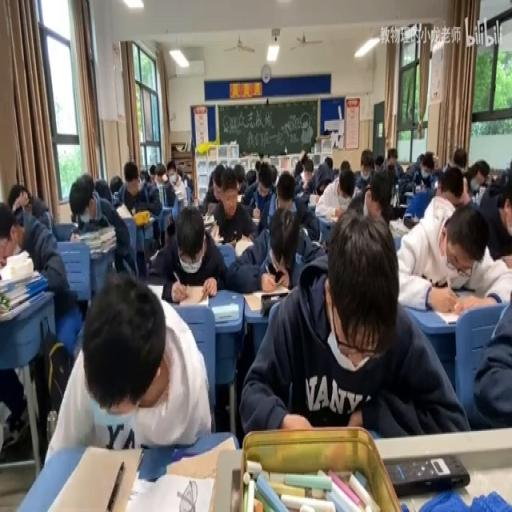calculator: (40, 443, 144, 512), (124, 471, 214, 512), (164, 434, 234, 479), (429, 296, 493, 324), (240, 288, 286, 312), (172, 287, 210, 306), (234, 234, 256, 258), (212, 302, 238, 322), (453, 283, 480, 297), (206, 222, 222, 243), (390, 218, 410, 234), (115, 202, 133, 218), (132, 209, 150, 225), (323, 209, 342, 221), (280, 155, 290, 171), (202, 213, 214, 225), (157, 184, 163, 206), (149, 247, 158, 259), (398, 202, 408, 212), (308, 199, 318, 208), (251, 209, 260, 219), (404, 191, 414, 199), (237, 193, 243, 202)
paper: (242, 208, 462, 438), (48, 268, 210, 462), (0, 189, 70, 449), (154, 202, 228, 301), (68, 172, 134, 282), (468, 280, 512, 428), (208, 168, 258, 247), (478, 166, 512, 260), (134, 162, 166, 252), (286, 170, 323, 242), (360, 166, 403, 224), (398, 148, 434, 202), (51, 286, 83, 340), (433, 165, 470, 209), (0, 200, 22, 268), (164, 158, 187, 205), (464, 158, 489, 195), (30, 194, 52, 228), (93, 176, 112, 206), (385, 146, 401, 176), (338, 170, 354, 200), (123, 160, 139, 184), (232, 162, 246, 189), (450, 148, 466, 171), (360, 151, 374, 175), (108, 176, 122, 198), (487, 181, 506, 196), (154, 165, 166, 186), (316, 179, 330, 196), (244, 168, 256, 186), (301, 168, 313, 186), (390, 182, 398, 206), (374, 154, 384, 172), (270, 163, 278, 185), (293, 159, 302, 178), (415, 151, 424, 168), (165, 219, 174, 236), (299, 151, 309, 166), (322, 156, 332, 170), (139, 168, 149, 182), (176, 165, 183, 181), (339, 160, 350, 170), (149, 164, 156, 179), (254, 158, 261, 173), (432, 154, 439, 169), (405, 164, 414, 174), (482, 176, 491, 186)
person: (384, 452, 470, 494)
